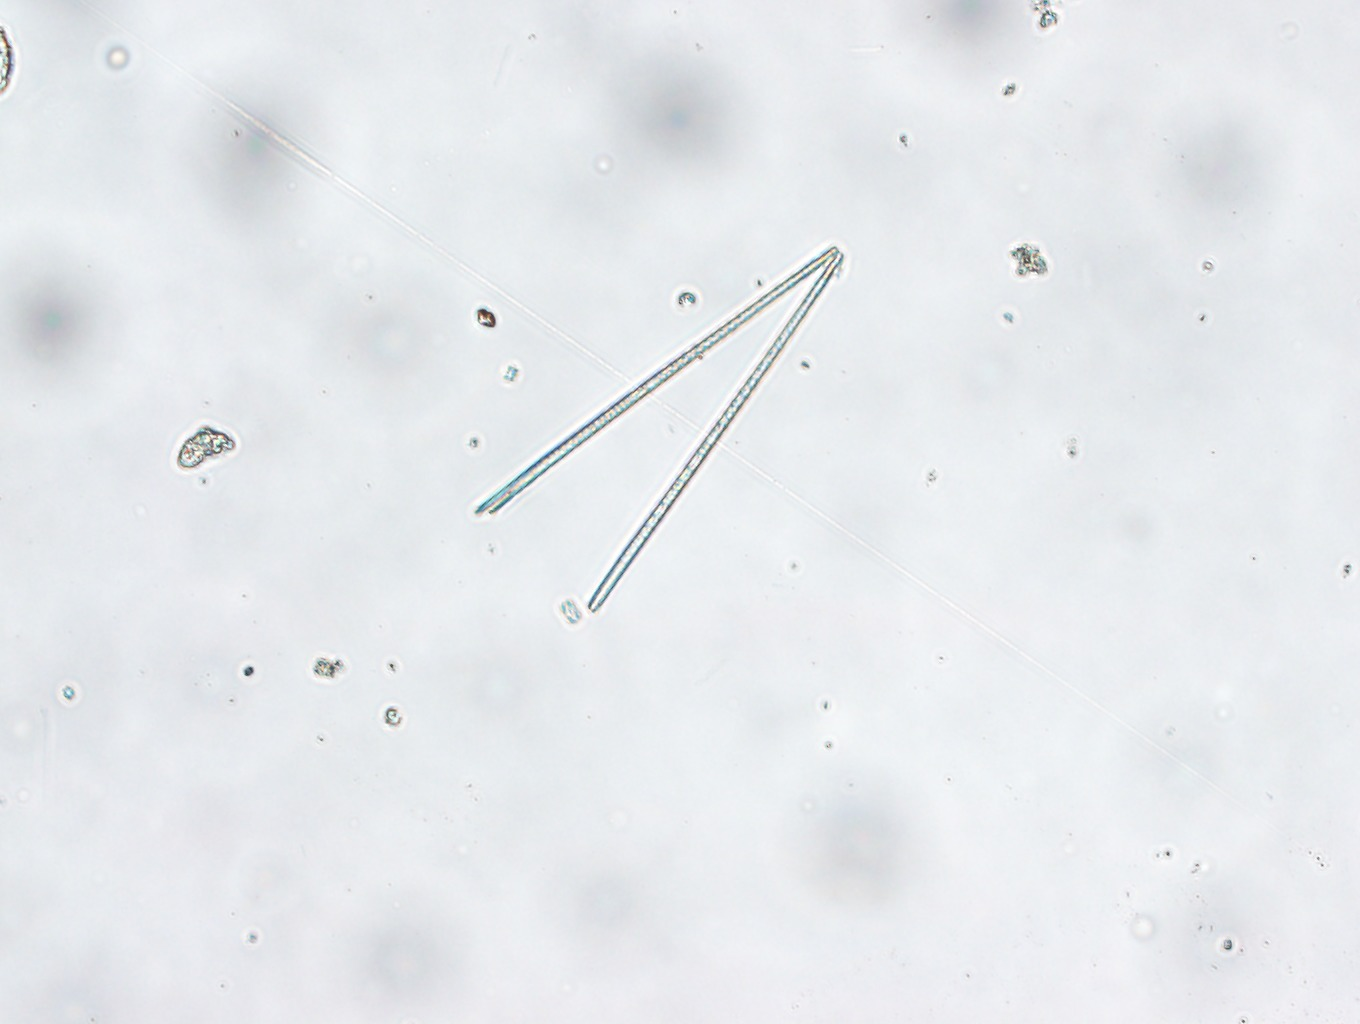thalassionema frauenfeldii: (472, 243, 843, 613)
